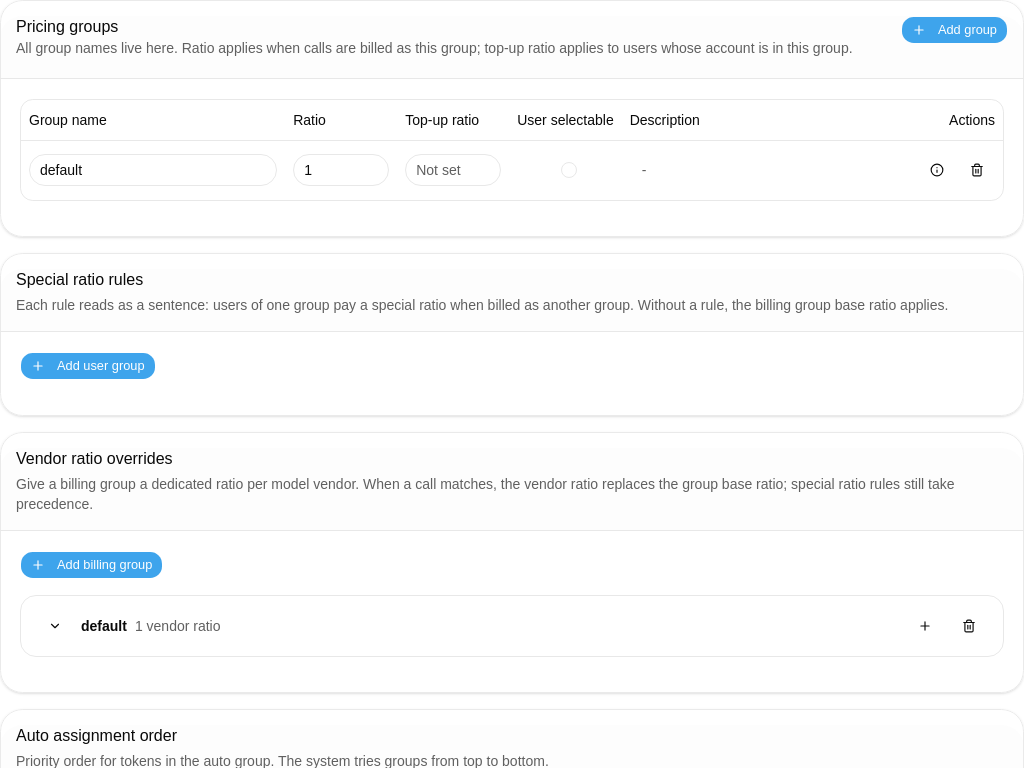
Test case: GroupRatioVisualEditor vendor ratio layout › shows base and current ratios directly in the expanded vendor table
The image size is (1024, 768).
Step 1. Click the button without text next to "default" → {"x": 55, "y": 626}, box [37,612,73,640]
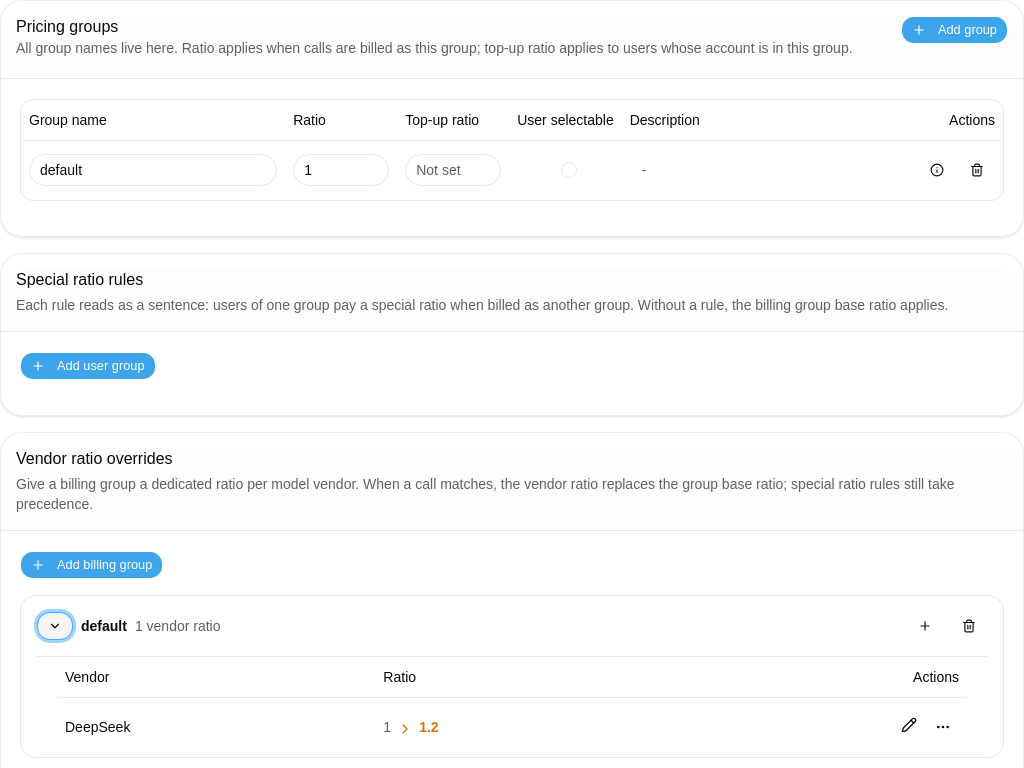
Check: the table "Vendor Ratio Actions DeepSeek 1 1.2" is shown, box [57,657,967,757]
Check: the icon with class "lucide-chevron-right" is shown, box [397,721,413,737]
Check: the element named "1 → 1.2" reads "1 1.2", box [383,717,439,737]
